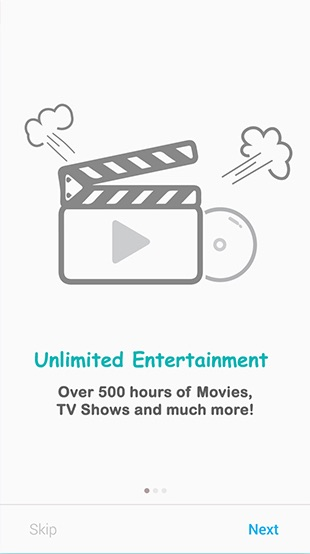Image: (25, 104, 293, 286)
PageIndicator: (144, 487, 168, 495)
Text: (57, 385, 254, 416), (35, 351, 269, 369), (30, 523, 58, 538), (248, 523, 280, 536)
